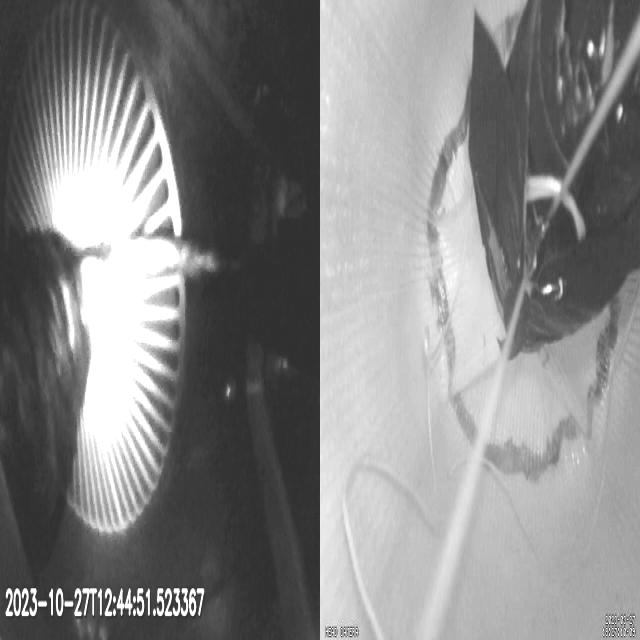red-circle: (426, 0, 623, 485)
